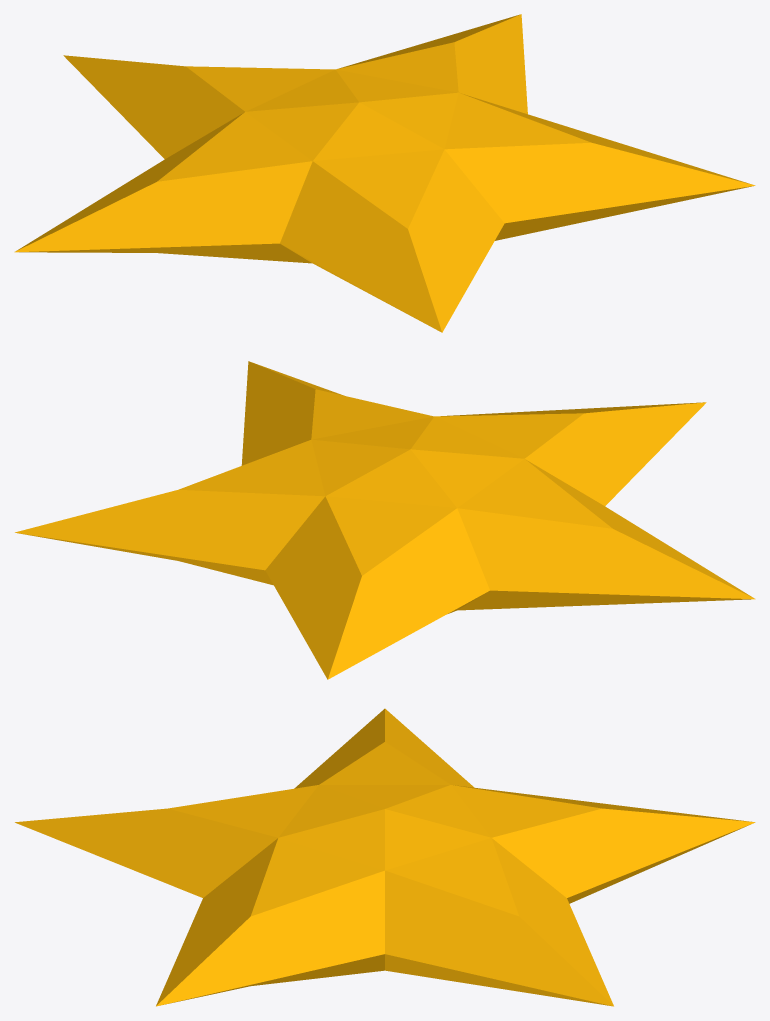
Rendered from Star01.fbx.
3 renders of one model, top to bottom at view 1: azimuth 30°, elevation 25°; view 2: azimuth 150°, elevation 25°; view 3: azimuth 270°, elevation 25°, orthographic. The views are drawn at different scales.
Visible parts, largest first — view 1: Star01; view 2: Star01; view 3: Star01.
Boxes of the visible parts, <box> form: Star01: <box>14,14,755,332</box>; Star01: <box>15,361,755,679</box>; Star01: <box>15,708,755,1006</box>.
Size of the model in its own units: 7.61 by 1.53 by 8.
